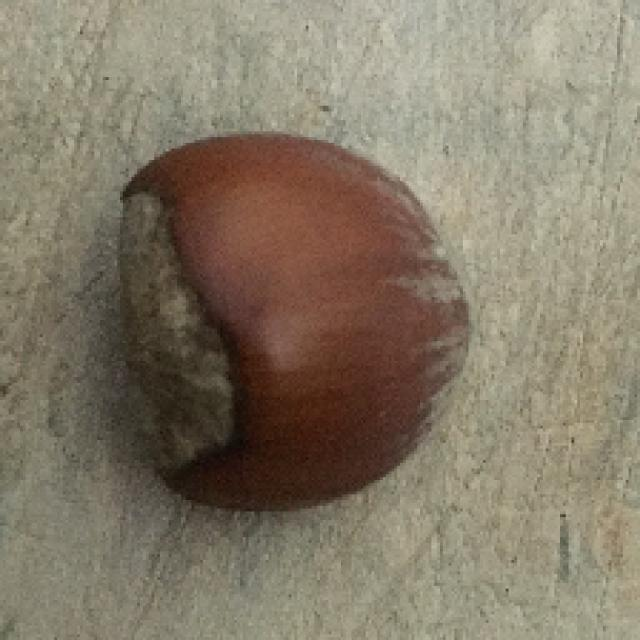qualityHazelnut: (118, 131, 470, 513)
